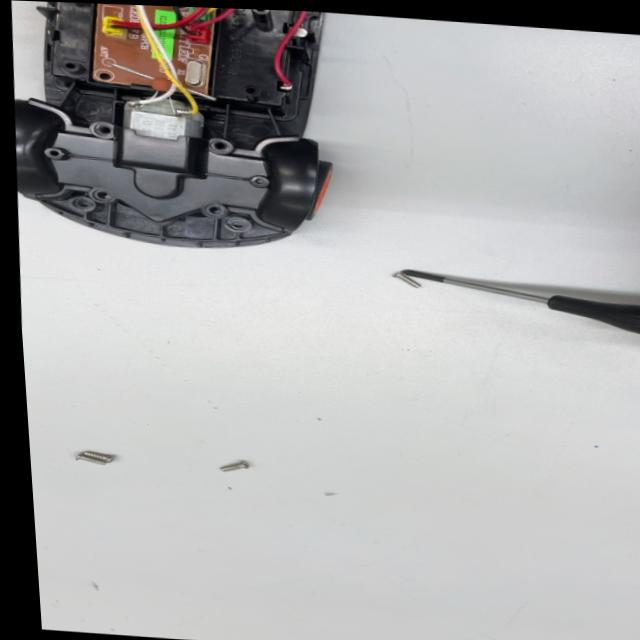motor_cover: (11, 106, 331, 239)
screw: (65, 441, 123, 473), (384, 271, 424, 297), (216, 453, 252, 480)
screw_driver: (398, 262, 640, 345)
